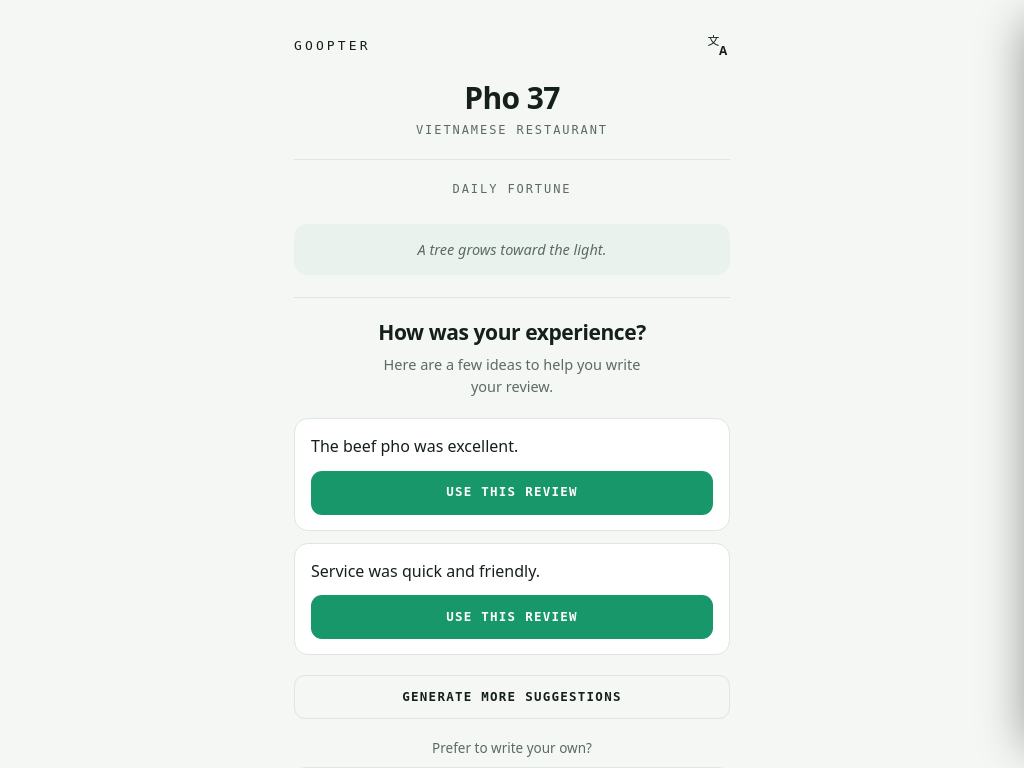
Scenario: switching language › asks only once per language, however often it is revisited
Expected: the heading "Pho 37" is shown, [464,82,560,114]
Expected: the text "The beef pho was excellent." is shown, [311,435,518,457]
Click the button with class "menu": coordinates (718, 45) [701,28,735,62]
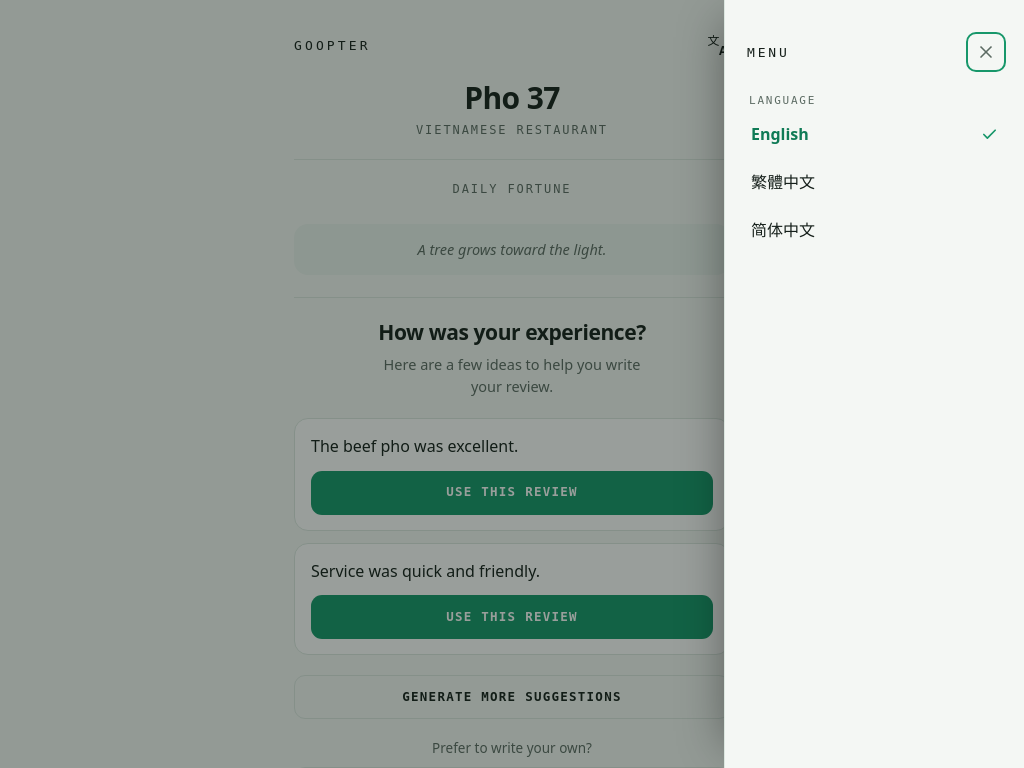
Click the menu item "繁體中文": coordinates (783, 182) [743,157,1006,205]
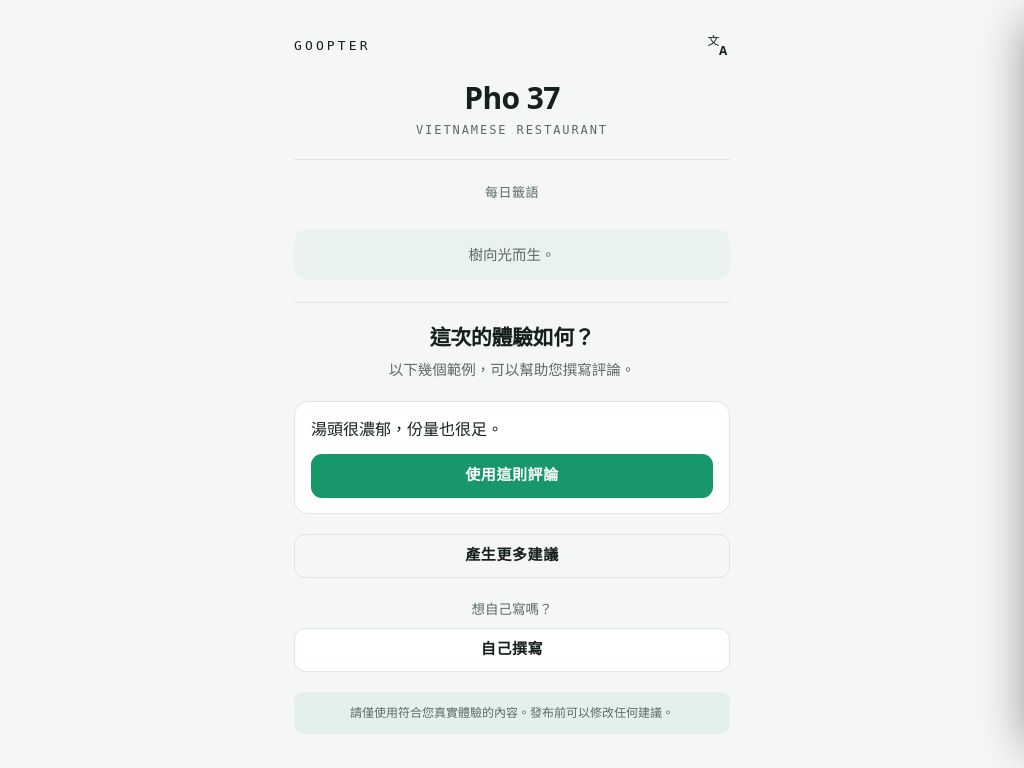
Expected: the text "湯頭很濃郁，份量也很足。" is shown, [311,418,503,440]
Click the button with class "menu": coordinates (718, 45) [701,28,735,62]
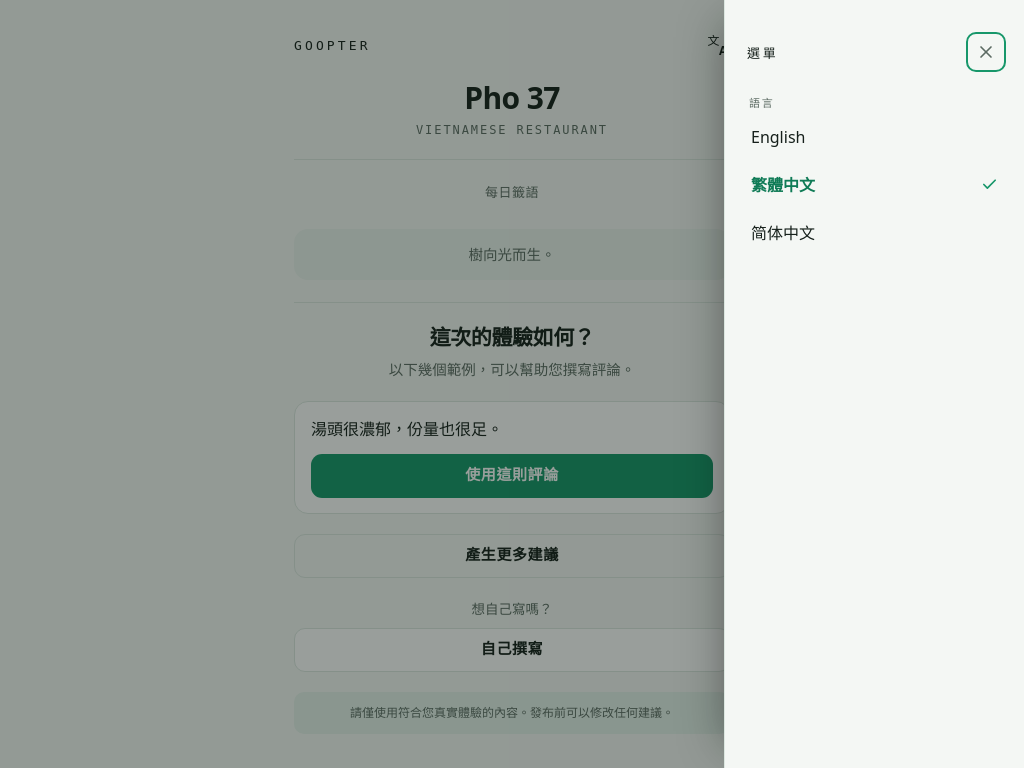
Click the menu item "English": coordinates (778, 137) [743,114,1006,160]
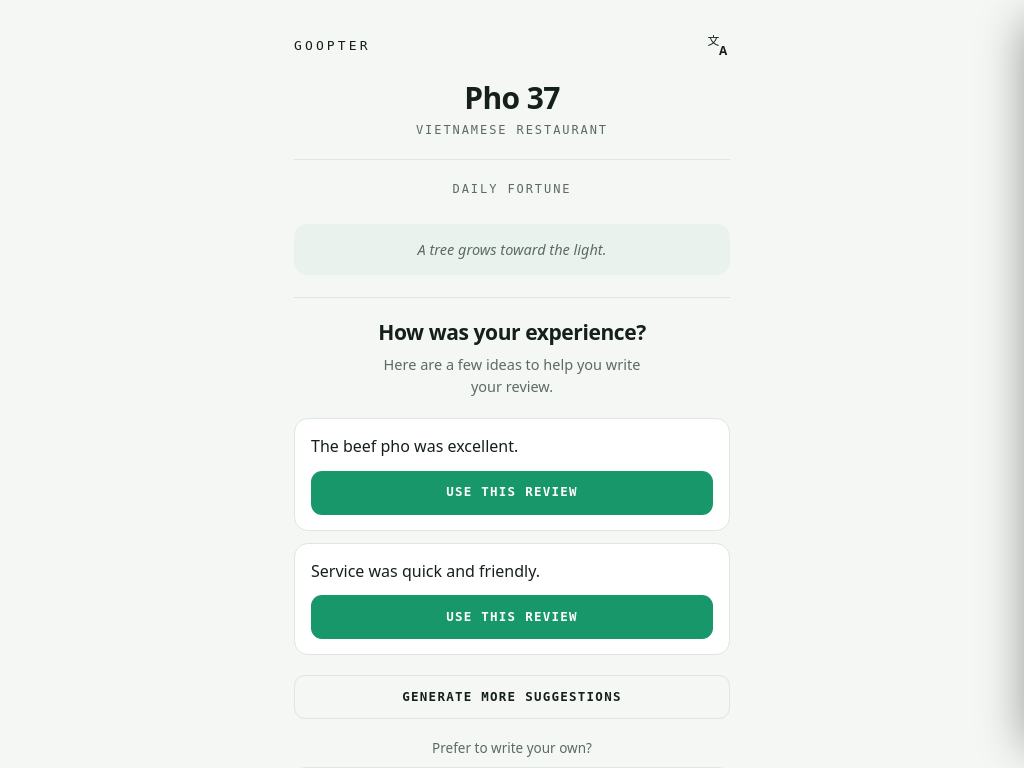
Click the button with class "menu": coordinates (718, 45) [701,28,735,62]
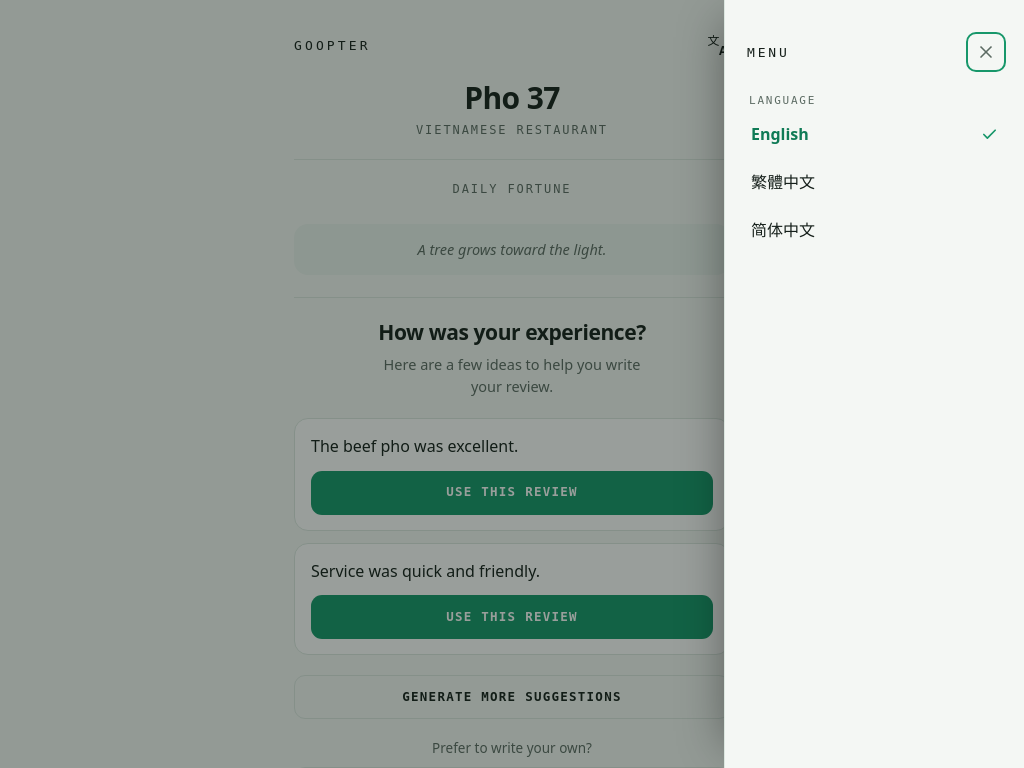
Click the menu item "繁體中文": coordinates (783, 182) [743,157,1006,205]
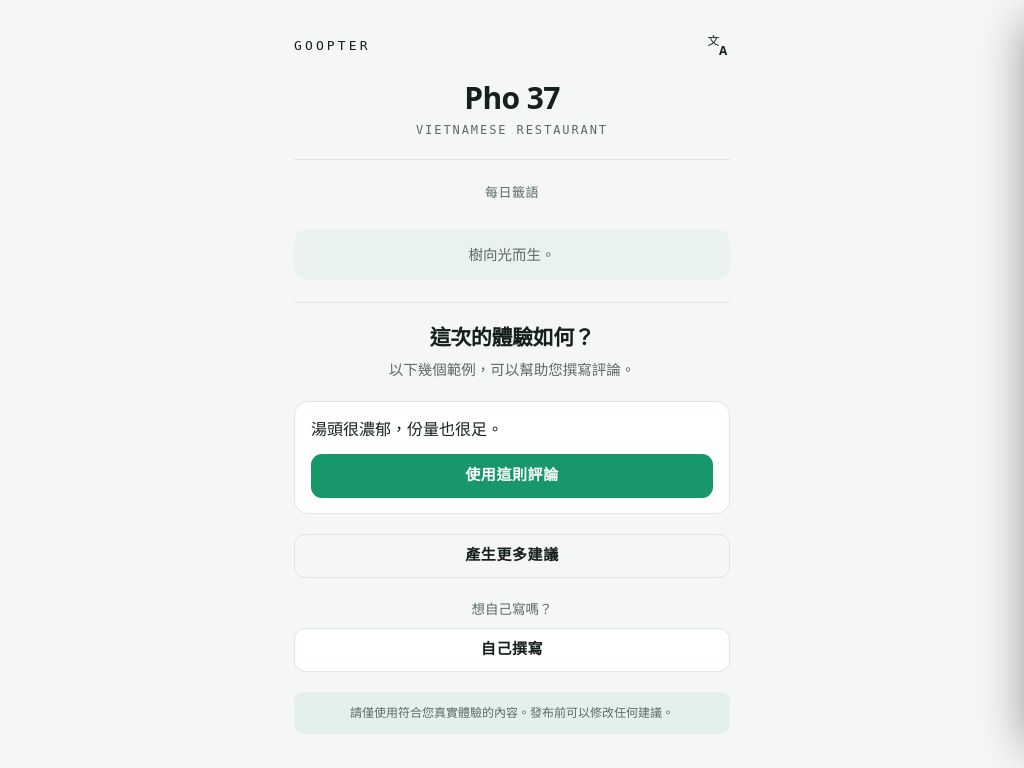
Expected: the text "湯頭很濃郁，份量也很足。" is shown, [311,418,503,440]
